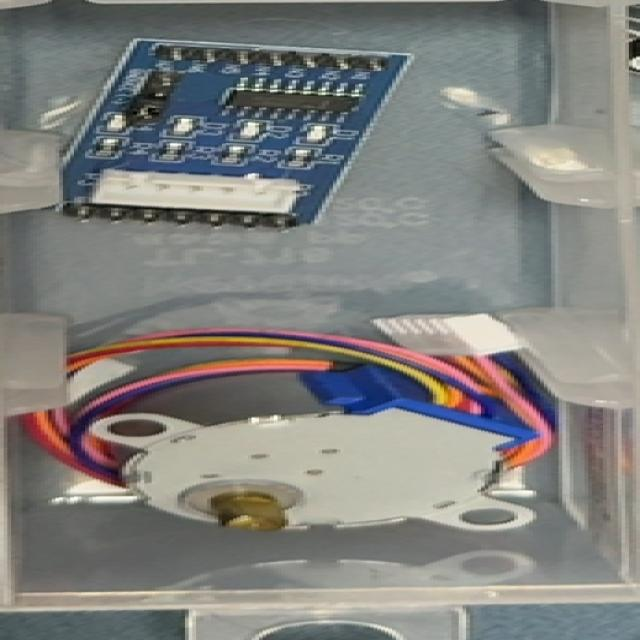Stepper Motor: (101, 364, 542, 536)
Stepper Motor Board: (50, 35, 408, 237)
